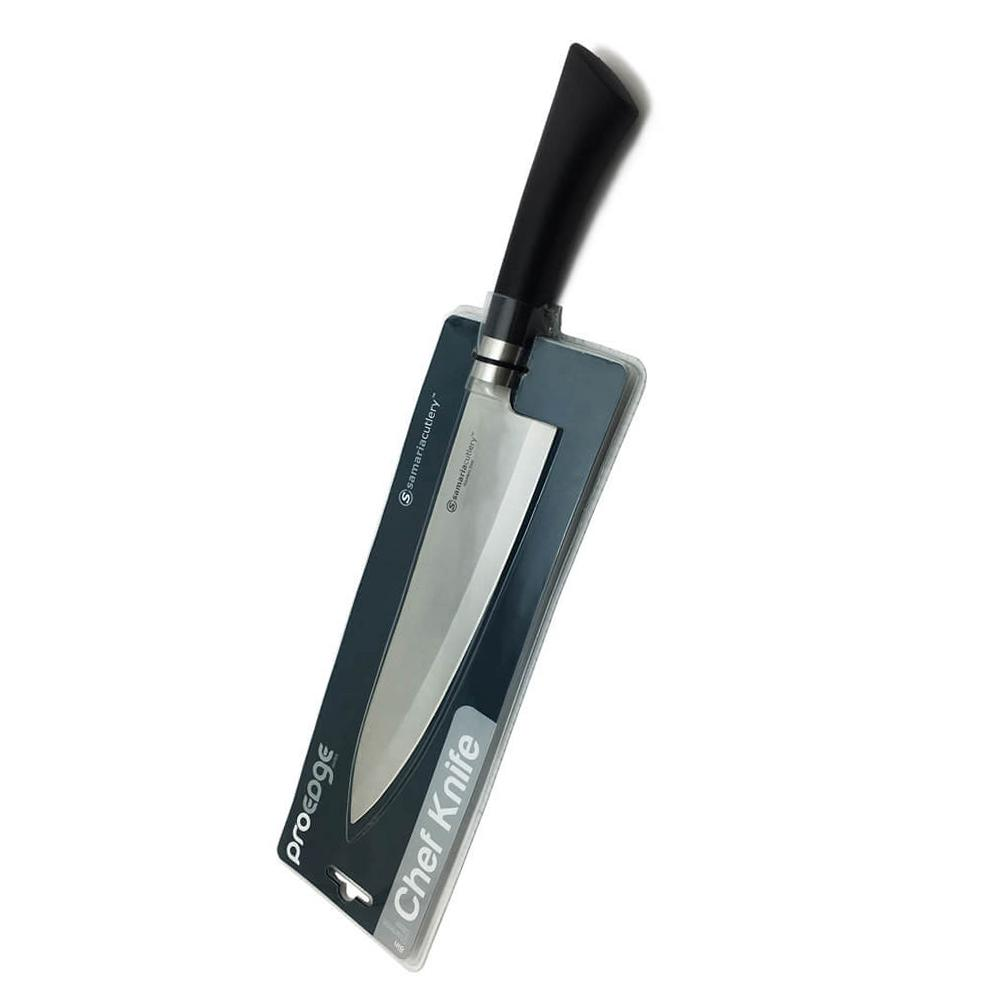knife: (344, 42, 642, 837)
